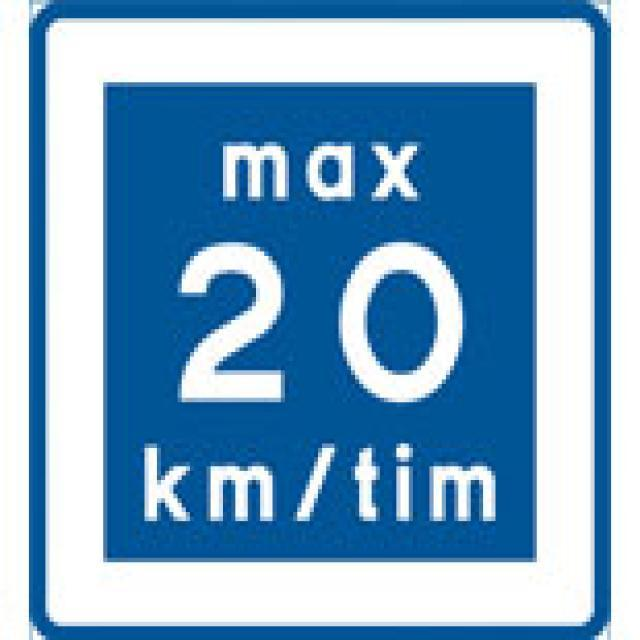lowspeed zone: (24, 0, 612, 640)
